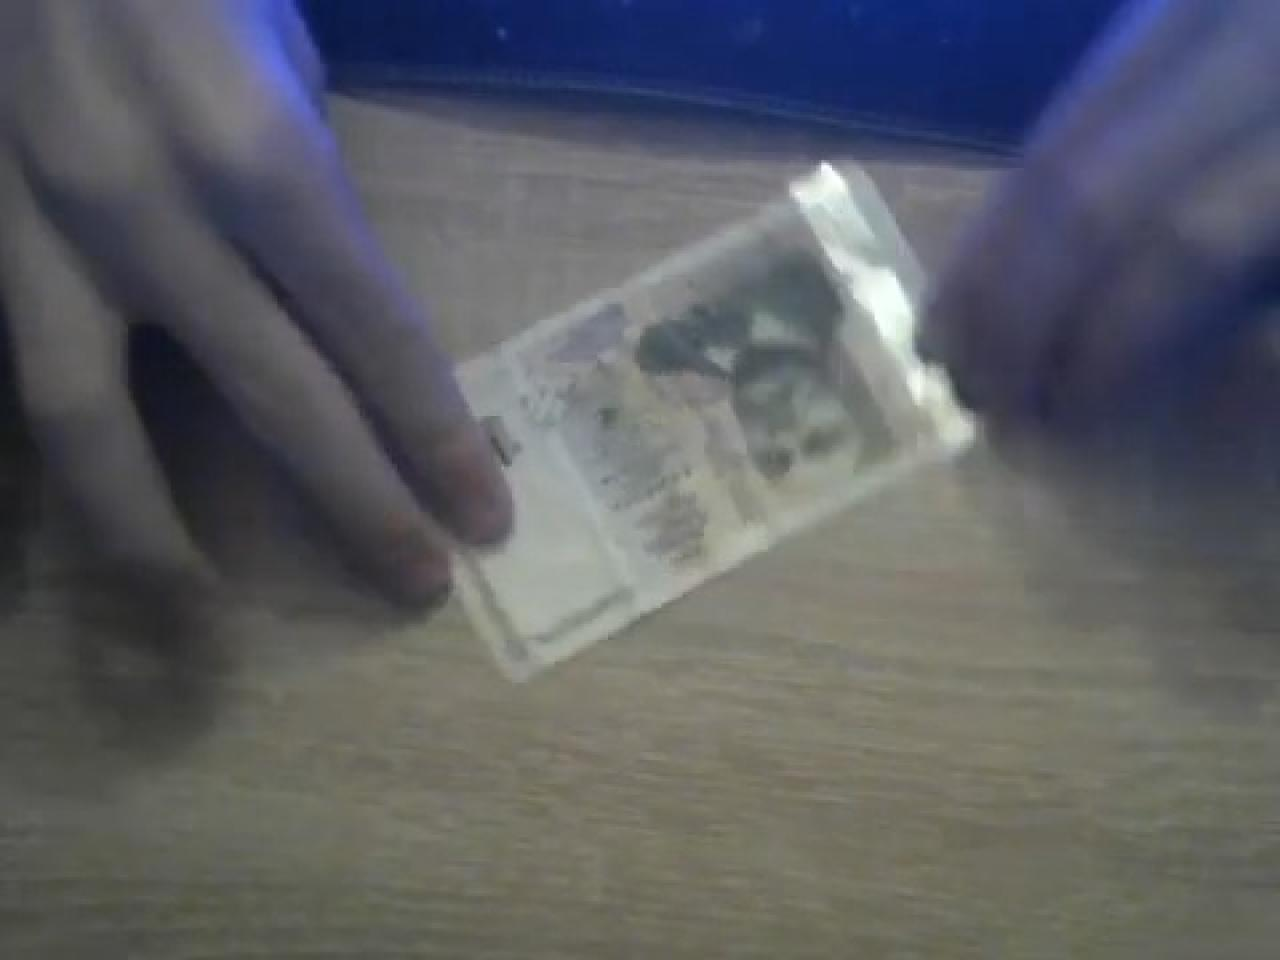10leva: (454, 162, 976, 686)
